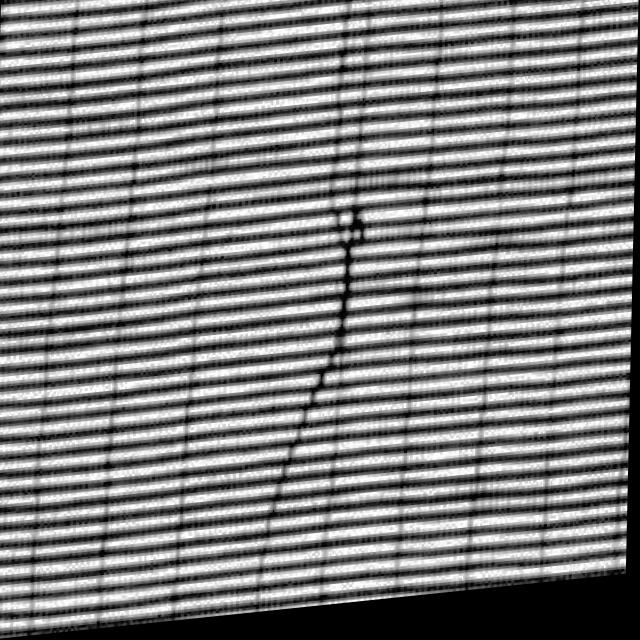Stitch: (263, 191, 373, 527)
